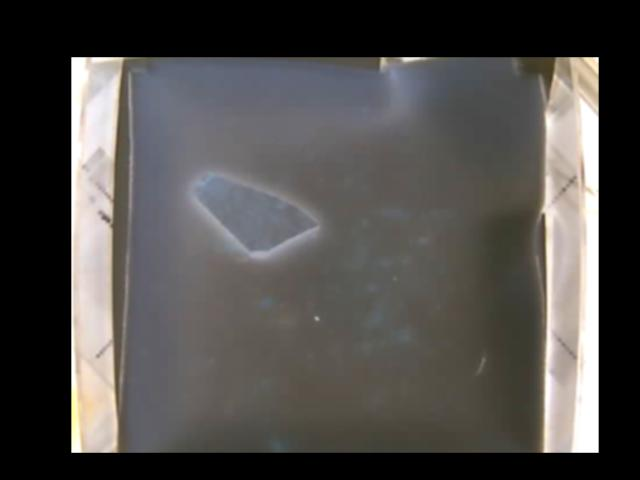China: (191, 173, 320, 255)
